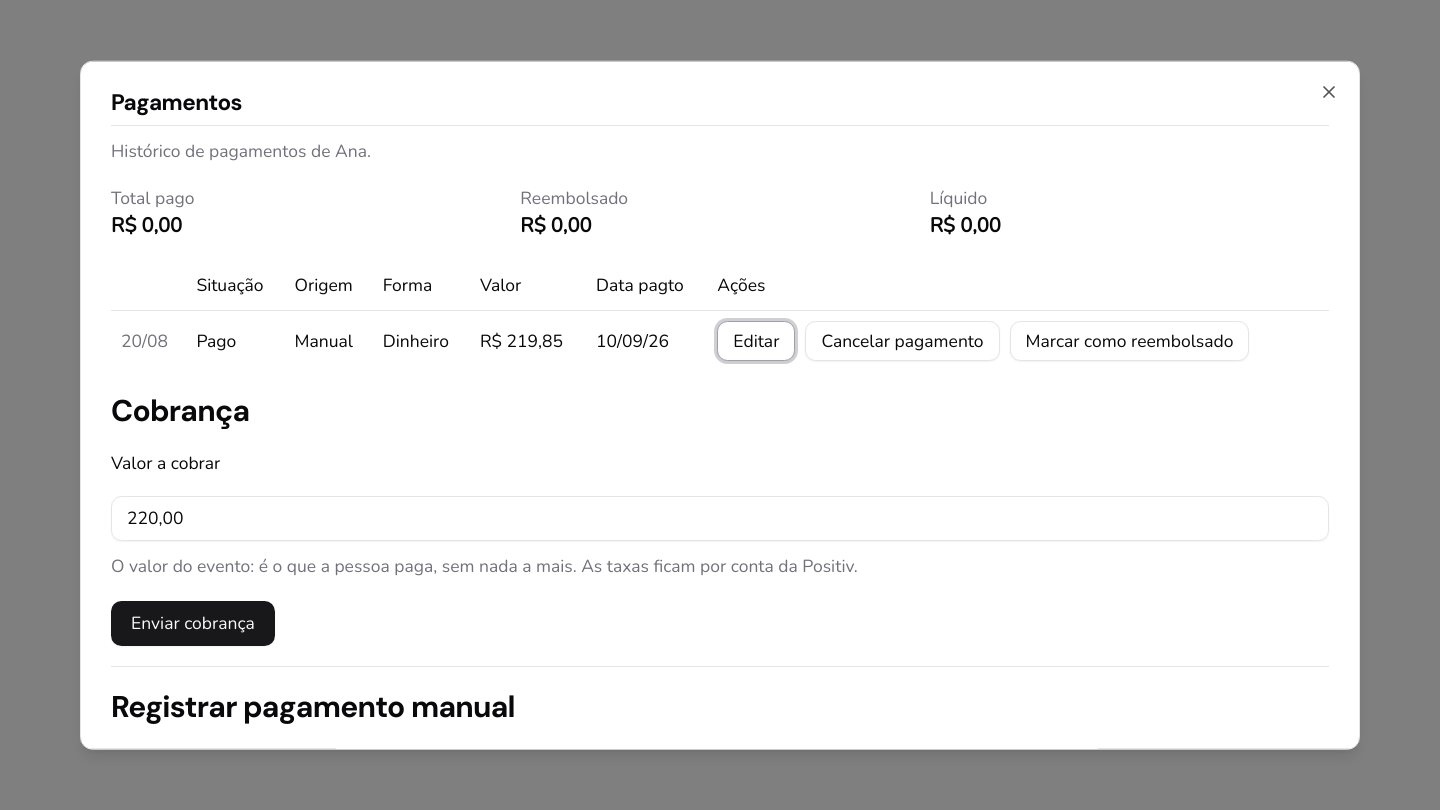
Test: ManagePaymentModal - correcting a manual payment › opens on the payment as it was recorded
Click the button "Editar" at (756, 341), box x1=717 y1=321 x2=795 y2=361
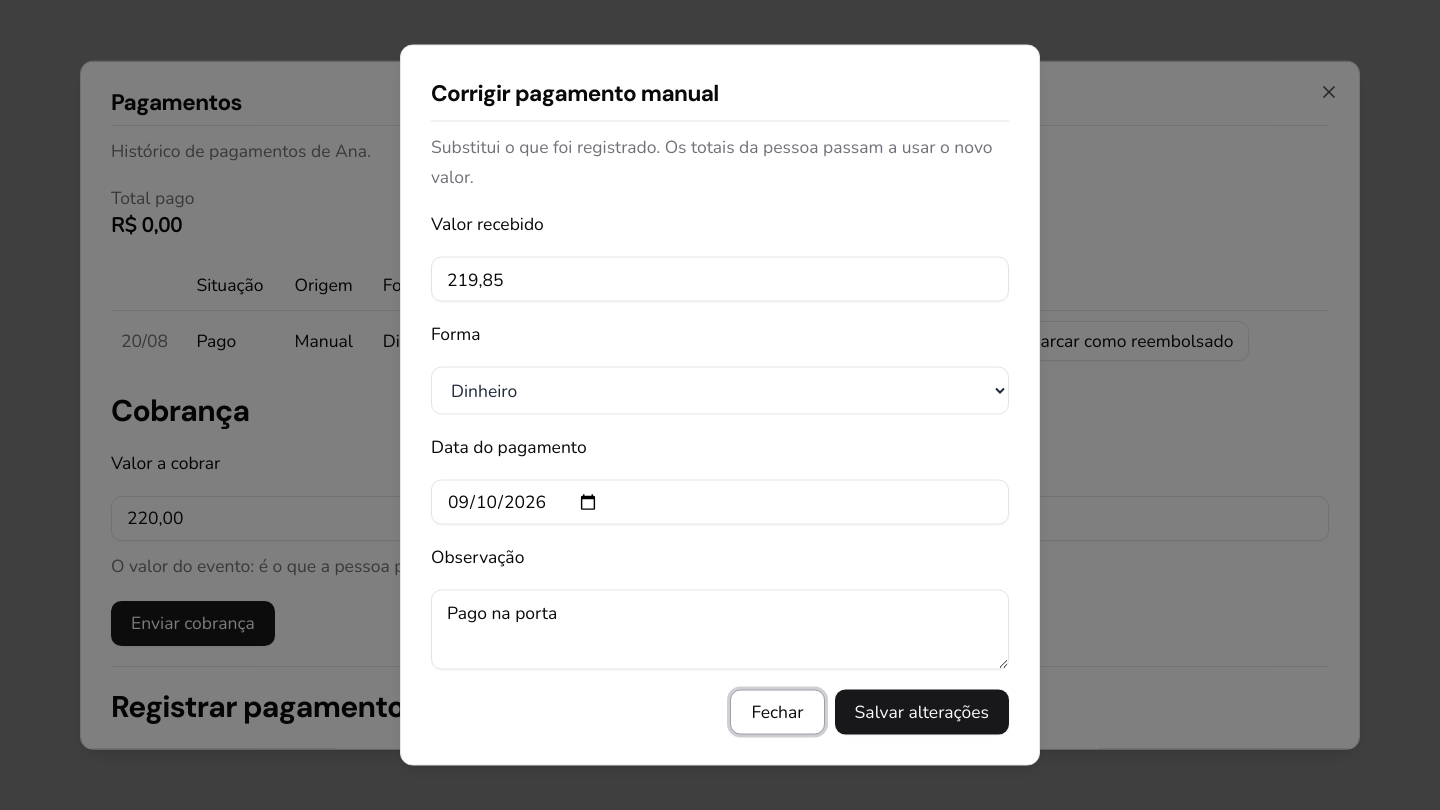
Now the field labelled "Valor recebido" holds "219,85", box x1=431 y1=256 x2=1009 y2=302
Now the dropdown labelled "Forma" shows "Dinheiro", box x1=431 y1=366 x2=1009 y2=414
Now the date field labelled "Data do pagamento" holds "2026-09-10", box x1=431 y1=480 x2=1009 y2=524
